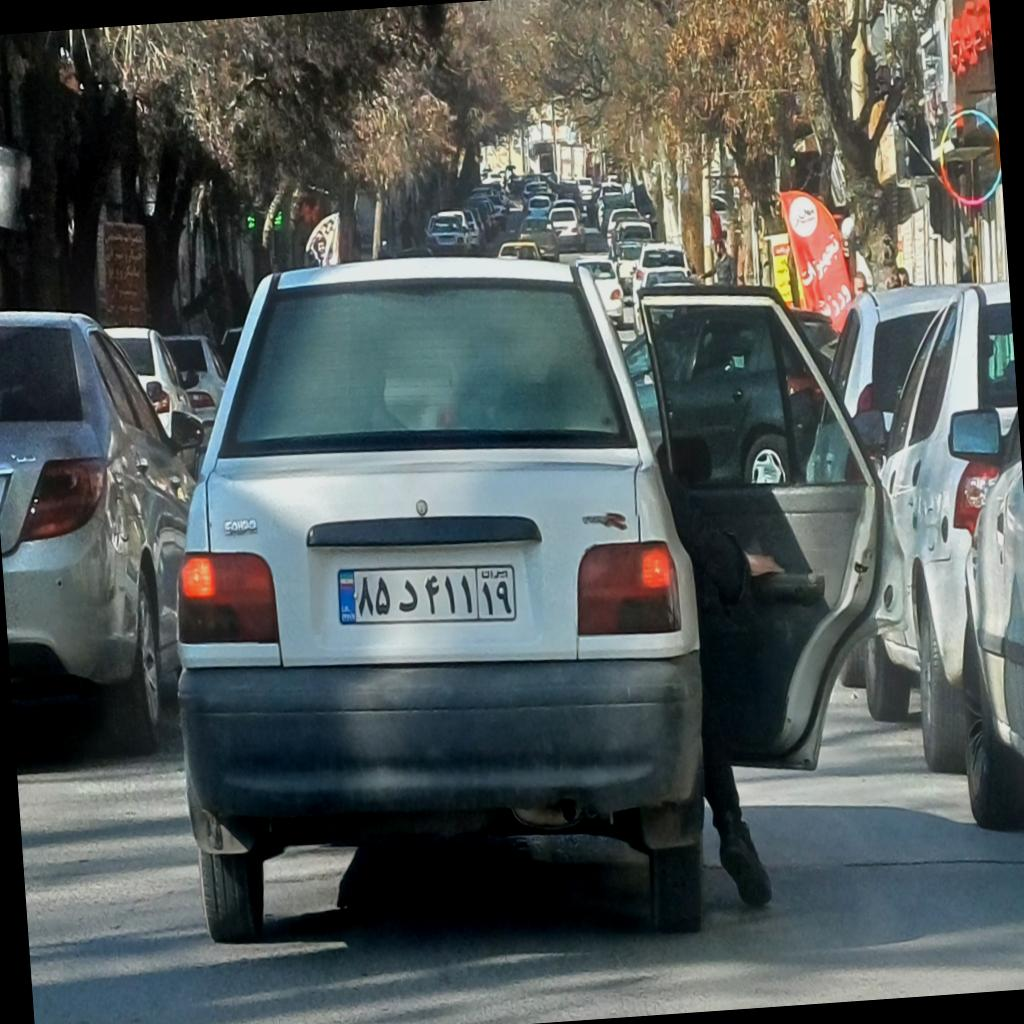Plates: (336, 556, 518, 632)
